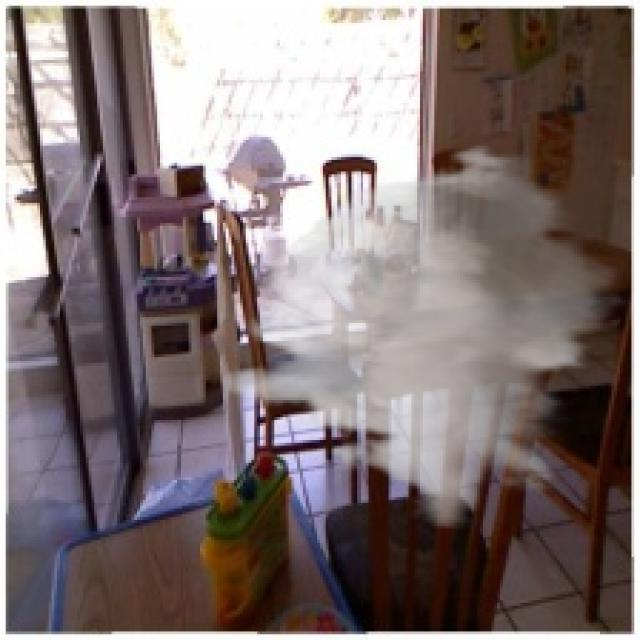smoke: (217, 143, 632, 531)
